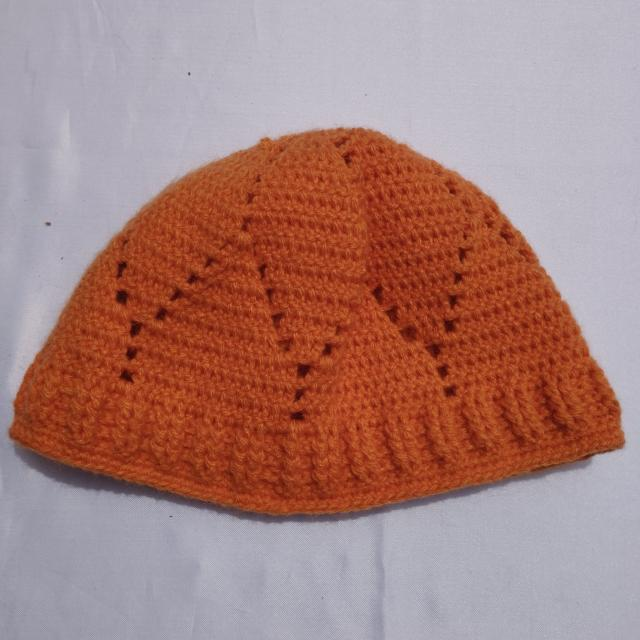Gorro: (9, 125, 626, 516)
